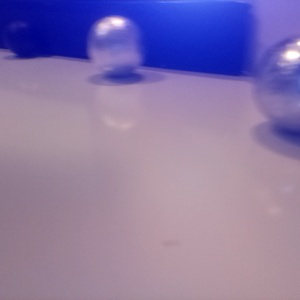alive_ball: (254, 36, 300, 133), (86, 16, 145, 77)
dead_ball: (6, 19, 45, 56)
